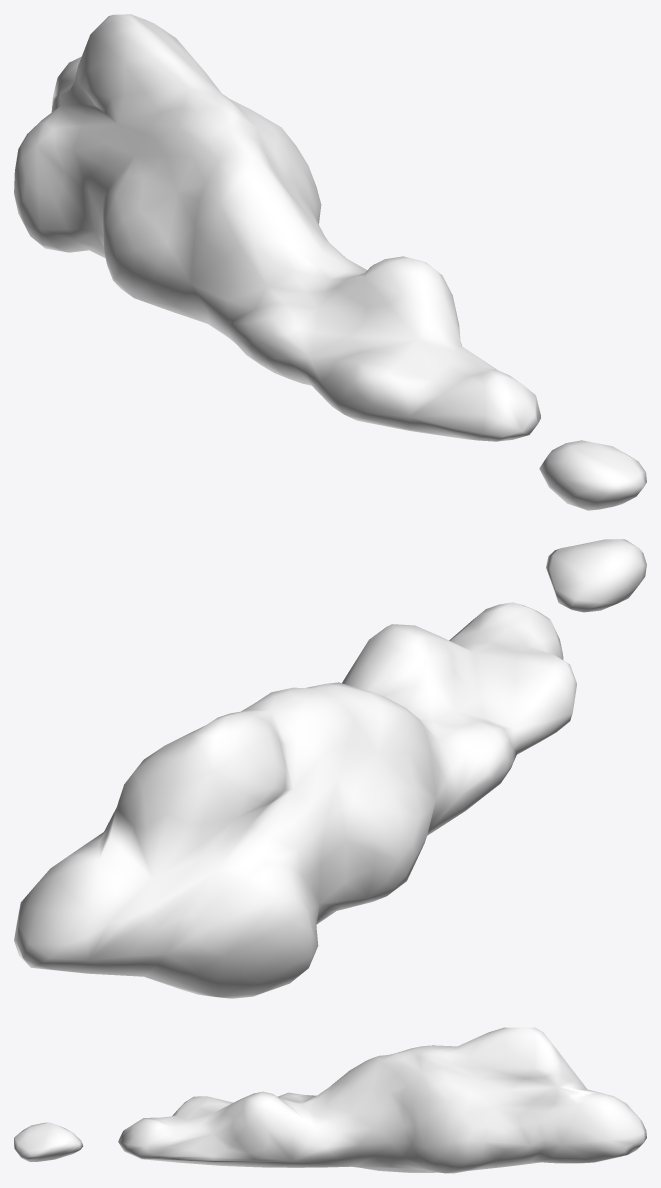
The model's file is Cloud01.fbx.
3 renders of one model, top to bottom at view 1: azimuth 30°, elevation 25°; view 2: azimuth 150°, elevation 25°; view 3: azimuth 270°, elevation 25°, orthographic. The views are drawn at different scales.
Visible parts, largest first — view 1: Cloud01; view 2: Cloud01; view 3: Cloud01.
Boxes of the visible parts, bbox=[...] form: Cloud01: bbox=[14, 14, 646, 510]; Cloud01: bbox=[14, 539, 646, 998]; Cloud01: bbox=[14, 1027, 646, 1173].
Size of the model in its own units: 752 by 760 by 3161.
